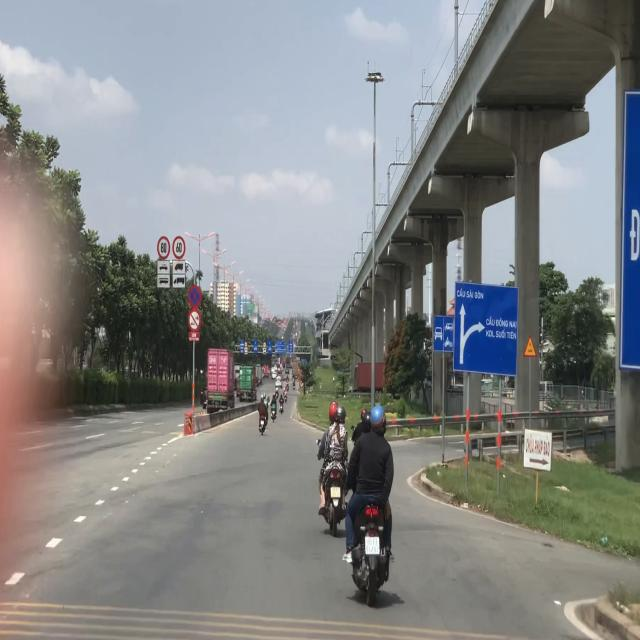Cam dung va do: (188, 284, 202, 309)
Nguy hiem: (523, 334, 537, 358)
Toc do toi da: (172, 235, 186, 260), (157, 235, 170, 260)
